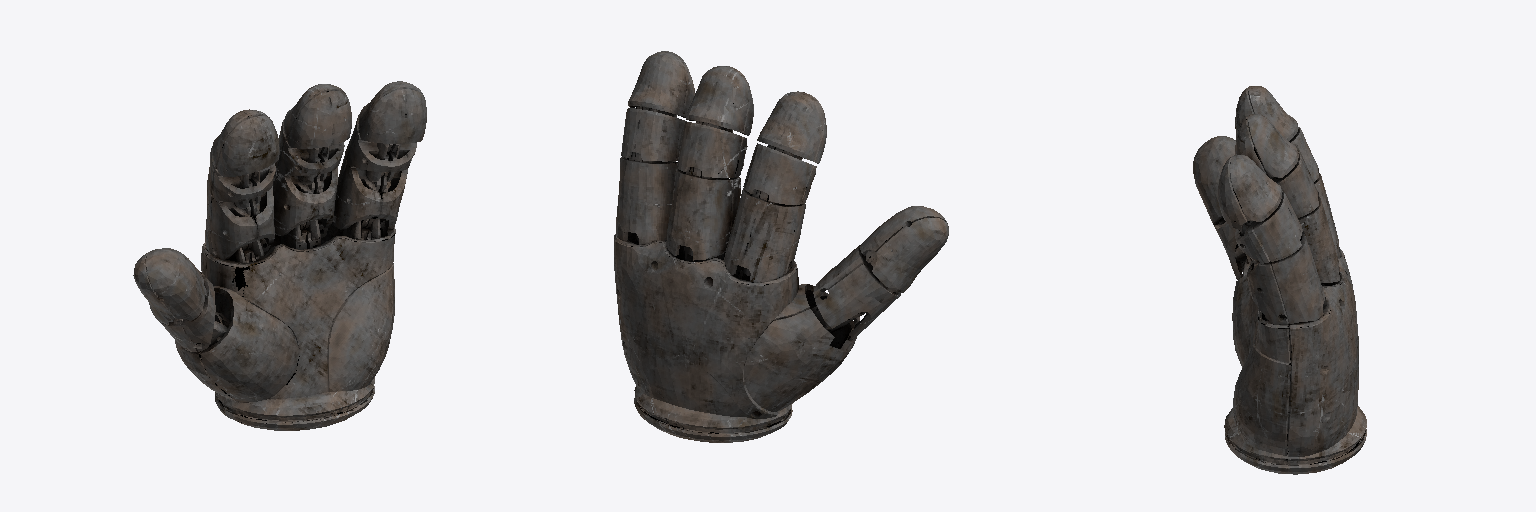
3 renders of one model, left to right at view 1: azimuth 30°, elevation 25°; view 2: azimuth 150°, elevation 25°; view 3: azimuth 270°, elevation 25°, orthographic.
Parts seen in each view (by area): view 1: hand_l; view 2: hand_l; view 3: hand_l.
Boxes of the visible parts, x1,y1,x2,y2 form: hand_l: [133, 81, 426, 430]; hand_l: [614, 51, 948, 442]; hand_l: [1193, 86, 1366, 474].
Size of the model in its own units: 0.198 by 0.2106 by 0.1002.
1 materials, 1 textured.